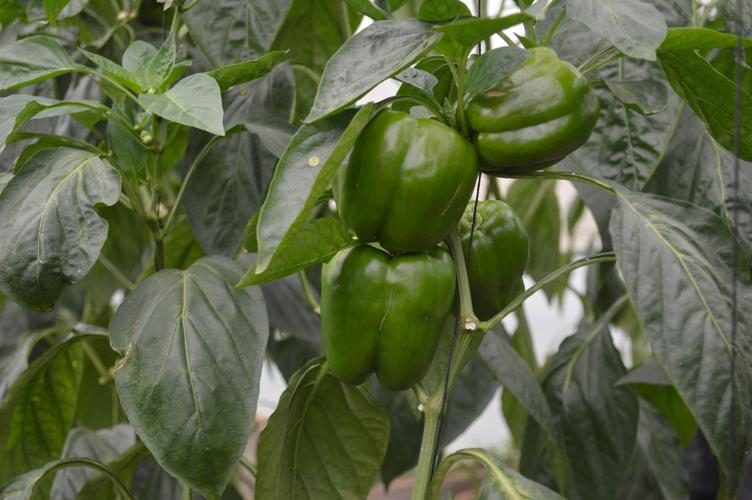BellPepper: (331, 117, 480, 266), (459, 48, 603, 192), (308, 249, 442, 383), (444, 206, 536, 298)
